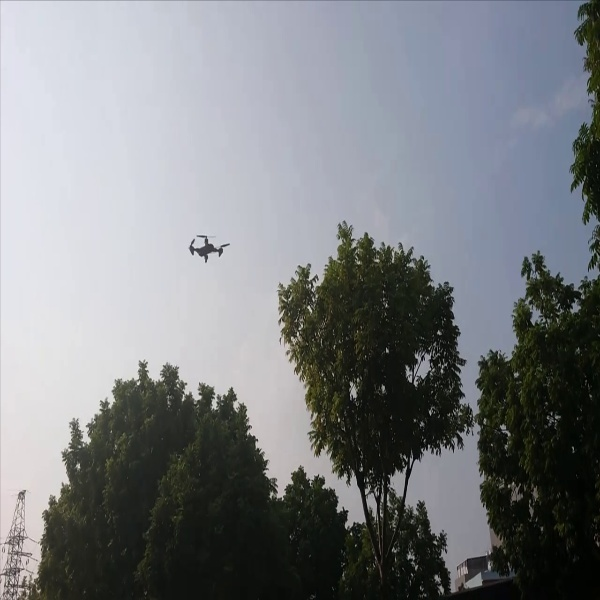drone: (184, 228, 238, 272)
